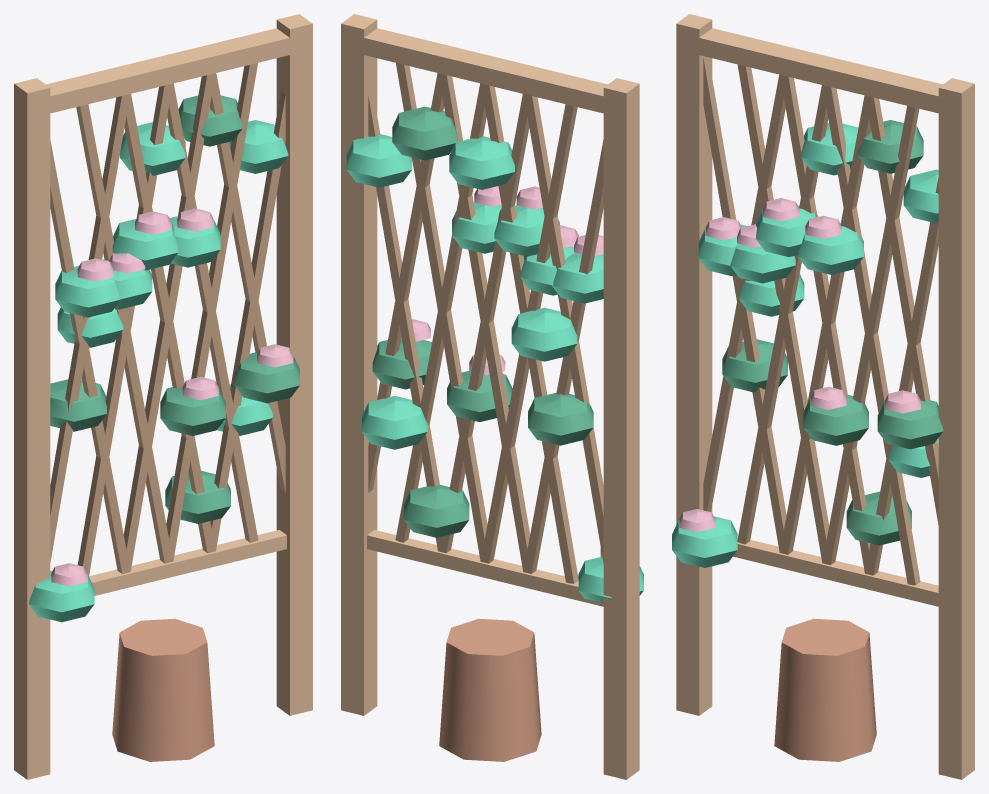
File: gardenTrellis.glb
3 renders of one model, left to right at view 1: azimuth 30°, elevation 25°; view 2: azimuth 150°, elevation 25°; view 3: azimuth 330°, elevation 25°, orthographic.
Visible parts, largest first — view 1: gardenTrellis; view 2: gardenTrellis; view 3: gardenTrellis.
Part boxes in pixels (box(x1,y1,x2,y2)): gardenTrellis: box(14, 14, 312, 779); gardenTrellis: box(341, 14, 643, 779); gardenTrellis: box(672, 14, 974, 779).
Size of the model in its own units: 0.437 by 1 by 0.14.
